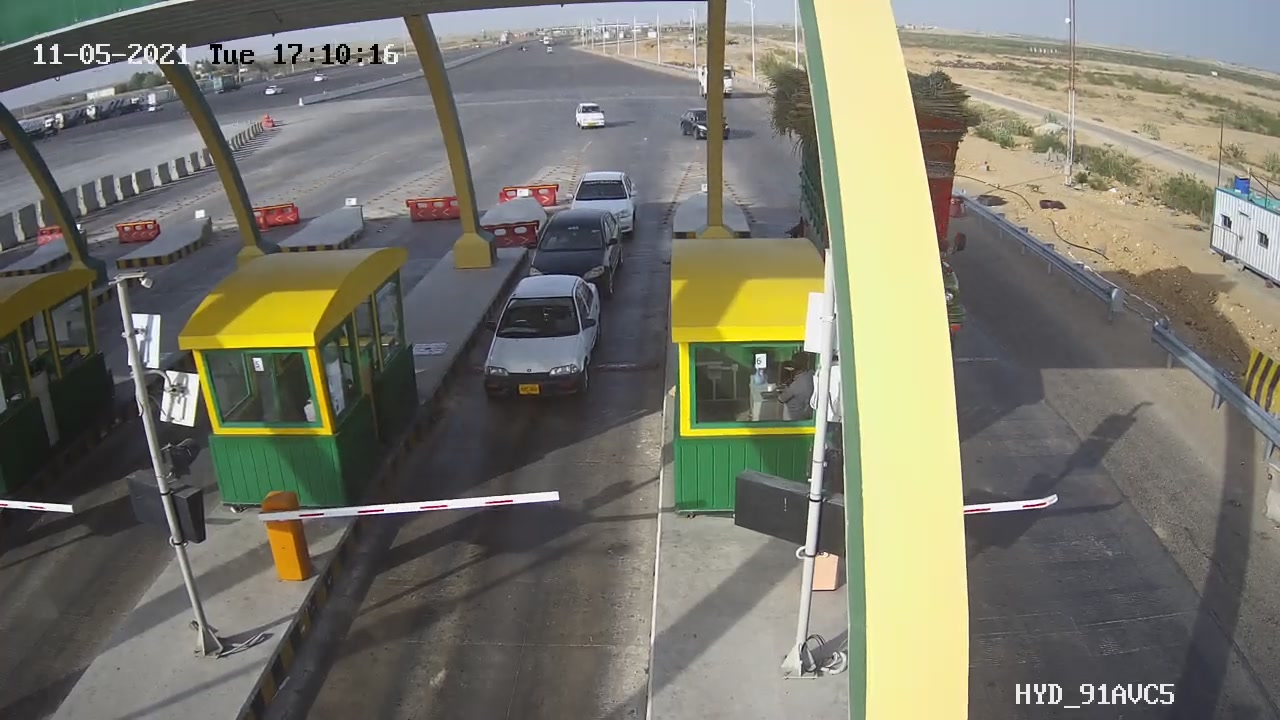F1: (461, 262, 625, 408), (511, 200, 637, 298)
